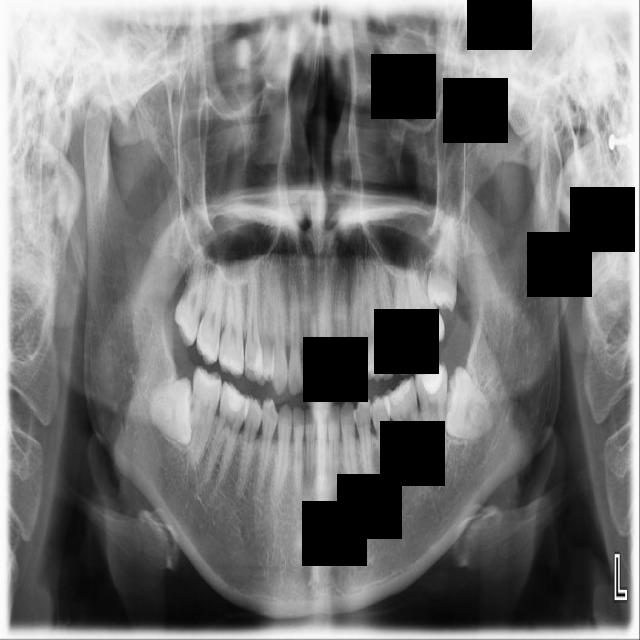3M ESPE Implant: (170, 243, 209, 348)
52: (376, 373, 431, 429), (411, 358, 452, 405), (218, 381, 252, 430)
73: (595, 575, 598, 589)
BioHorizons Implant: (400, 262, 452, 361)
BioLife Implant: (426, 209, 461, 313)
Biomet 3i Implant: (443, 366, 496, 442)
Blue Sky Bio Implant: (414, 360, 448, 464)
Caries: (194, 253, 229, 366)
Implant: (184, 364, 224, 469)
Keystone Dental Implant: (147, 377, 197, 448)
